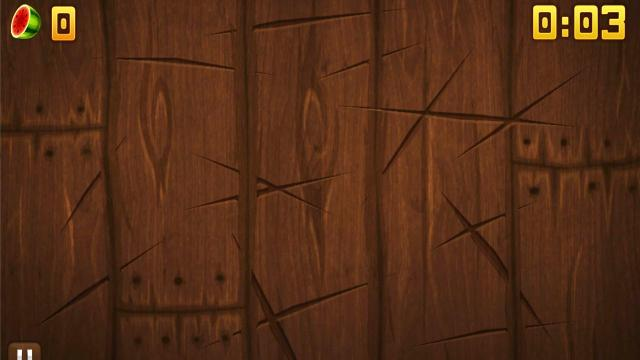ignore: (9, 4, 43, 40)
